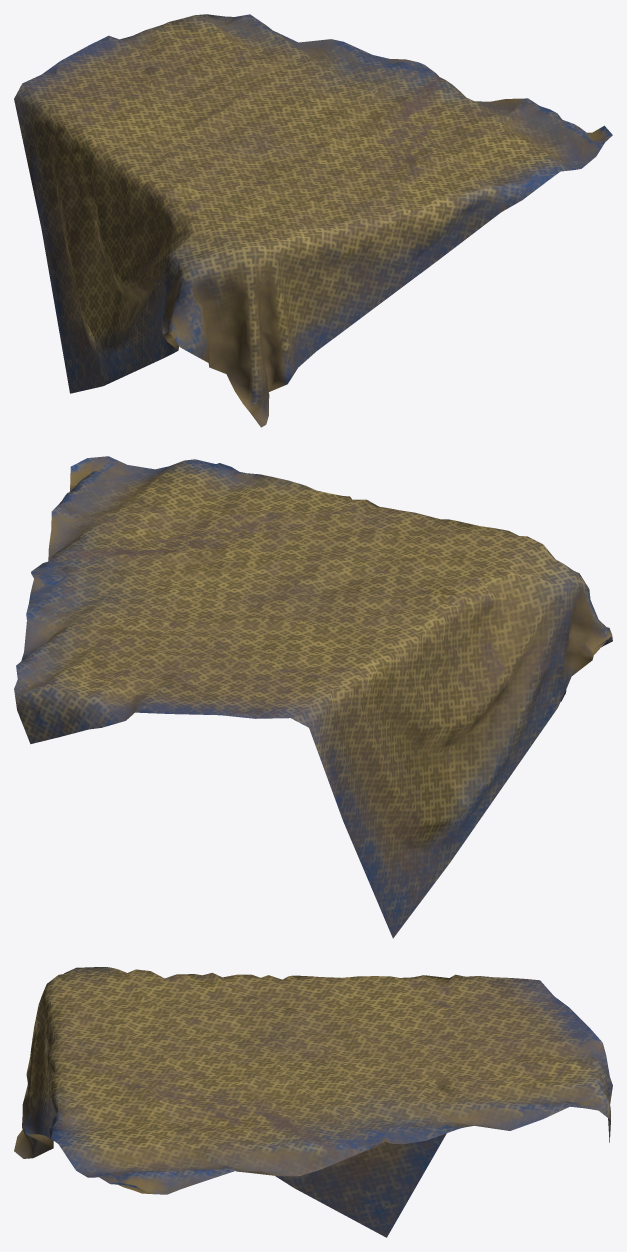
File: SM_Fabric01.FBX
3 views of the same model, one above another, from view 1: azimuth 30°, elevation 25°; view 2: azimuth 150°, elevation 25°; view 3: azimuth 270°, elevation 25° (orthographic). The views are drawn at different scales.
Visible parts, largest first — view 1: SM_Fabric01; view 2: SM_Fabric01; view 3: SM_Fabric01.
Part boxes in pixels (left/top/right/bottom): SM_Fabric01: left=14, top=14, right=612, bottom=427; SM_Fabric01: left=14, top=456, right=612, bottom=938; SM_Fabric01: left=14, top=967, right=612, bottom=1237.
Bounding box in the file's own units: 325 × 336 × 170.
